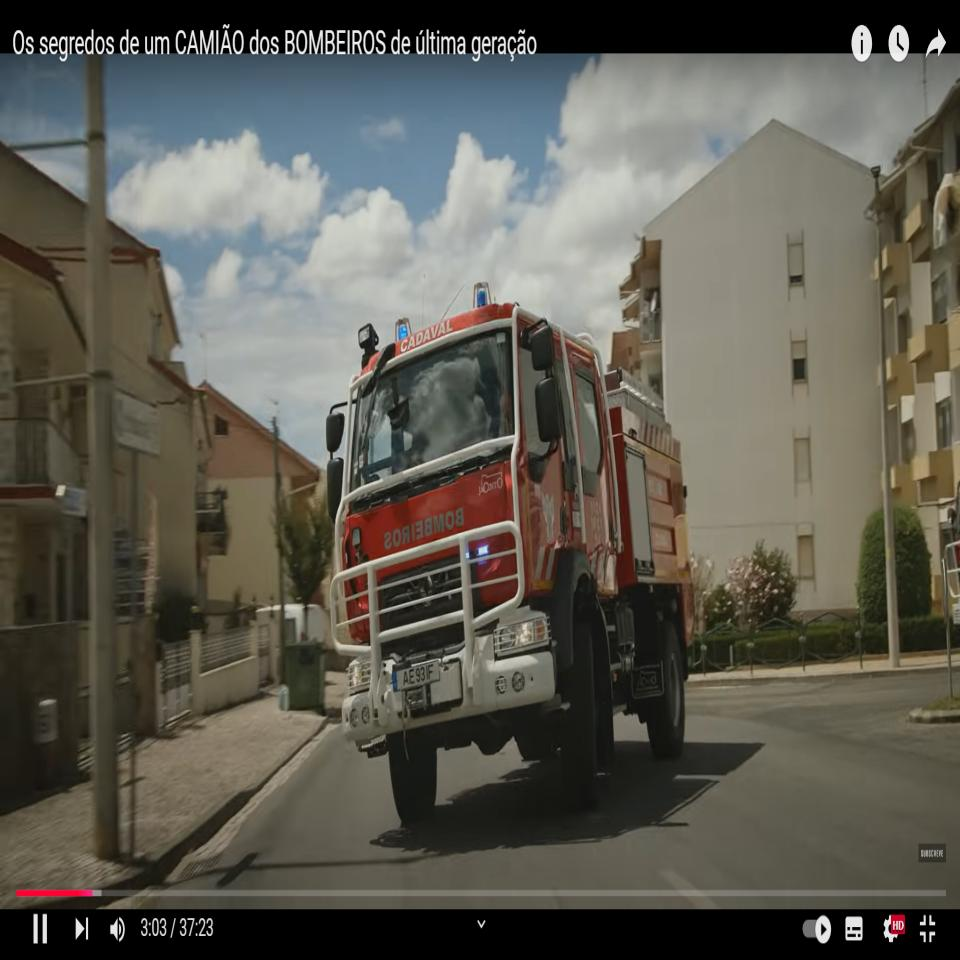viatura: (324, 281, 696, 827)
